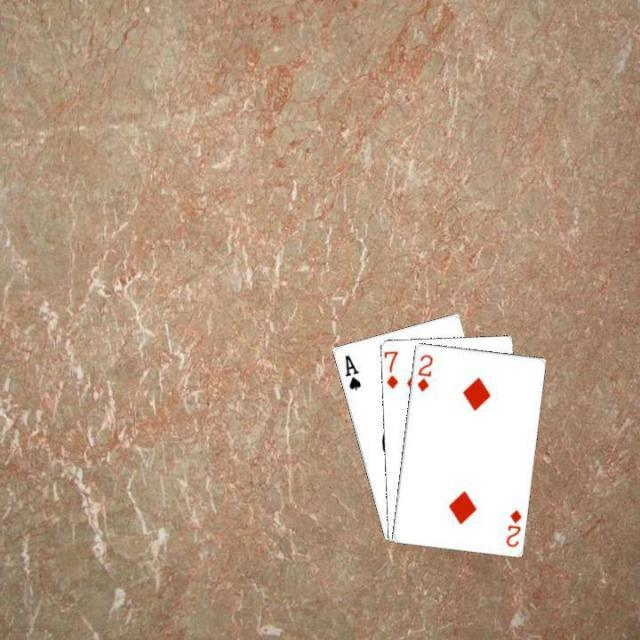2D: (413, 350, 433, 392), (502, 506, 522, 548)
7D: (382, 347, 399, 391)
AS: (341, 350, 363, 392)
